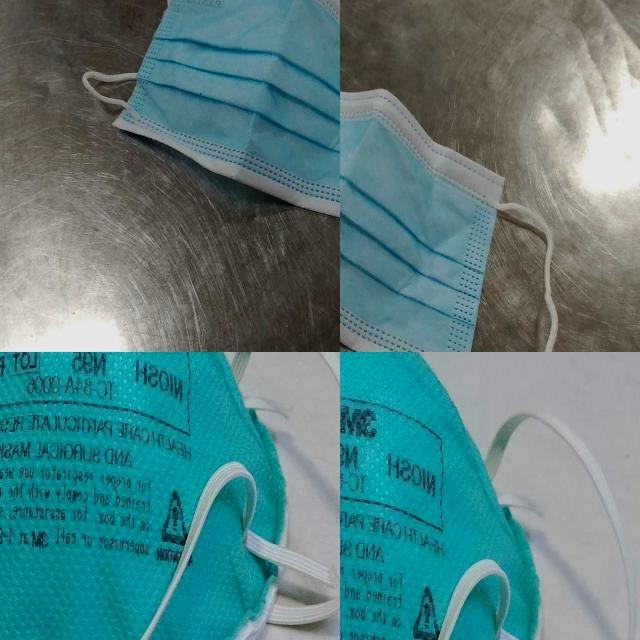General: (2, 350, 290, 638), (339, 350, 544, 638)
Infectious: (84, 0, 342, 218)
Sharps: (139, 459, 339, 638)
